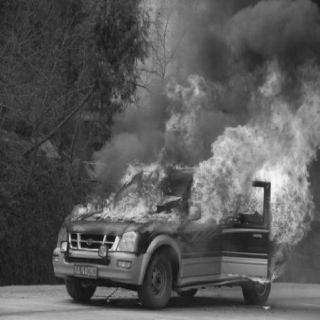Fire: (206, 63, 316, 247), (75, 166, 189, 226)
Smoke: (180, 1, 309, 66)
